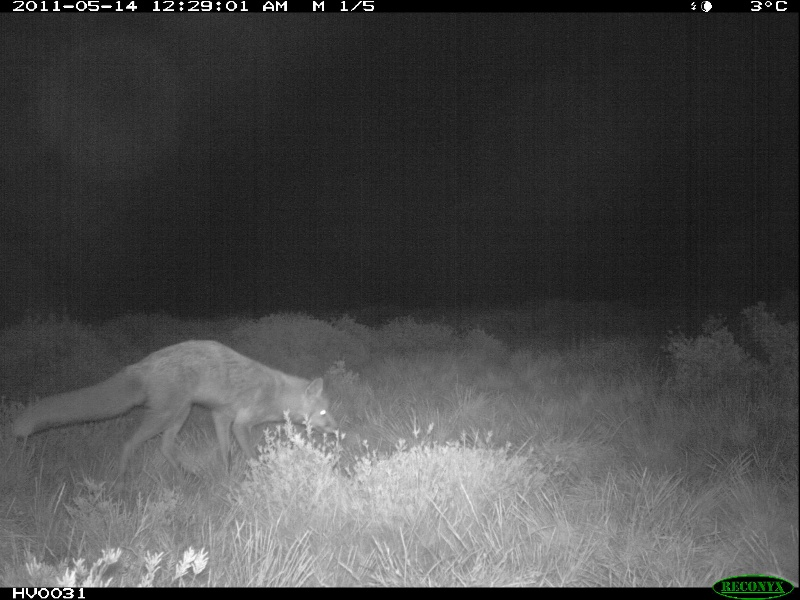fox: (16, 338, 346, 480)
